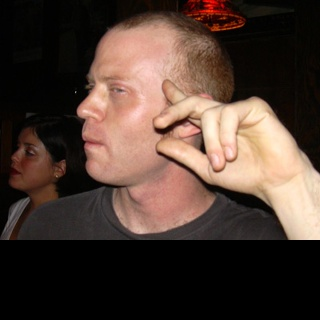without_mask: (75, 30, 176, 183), (10, 128, 51, 189)
